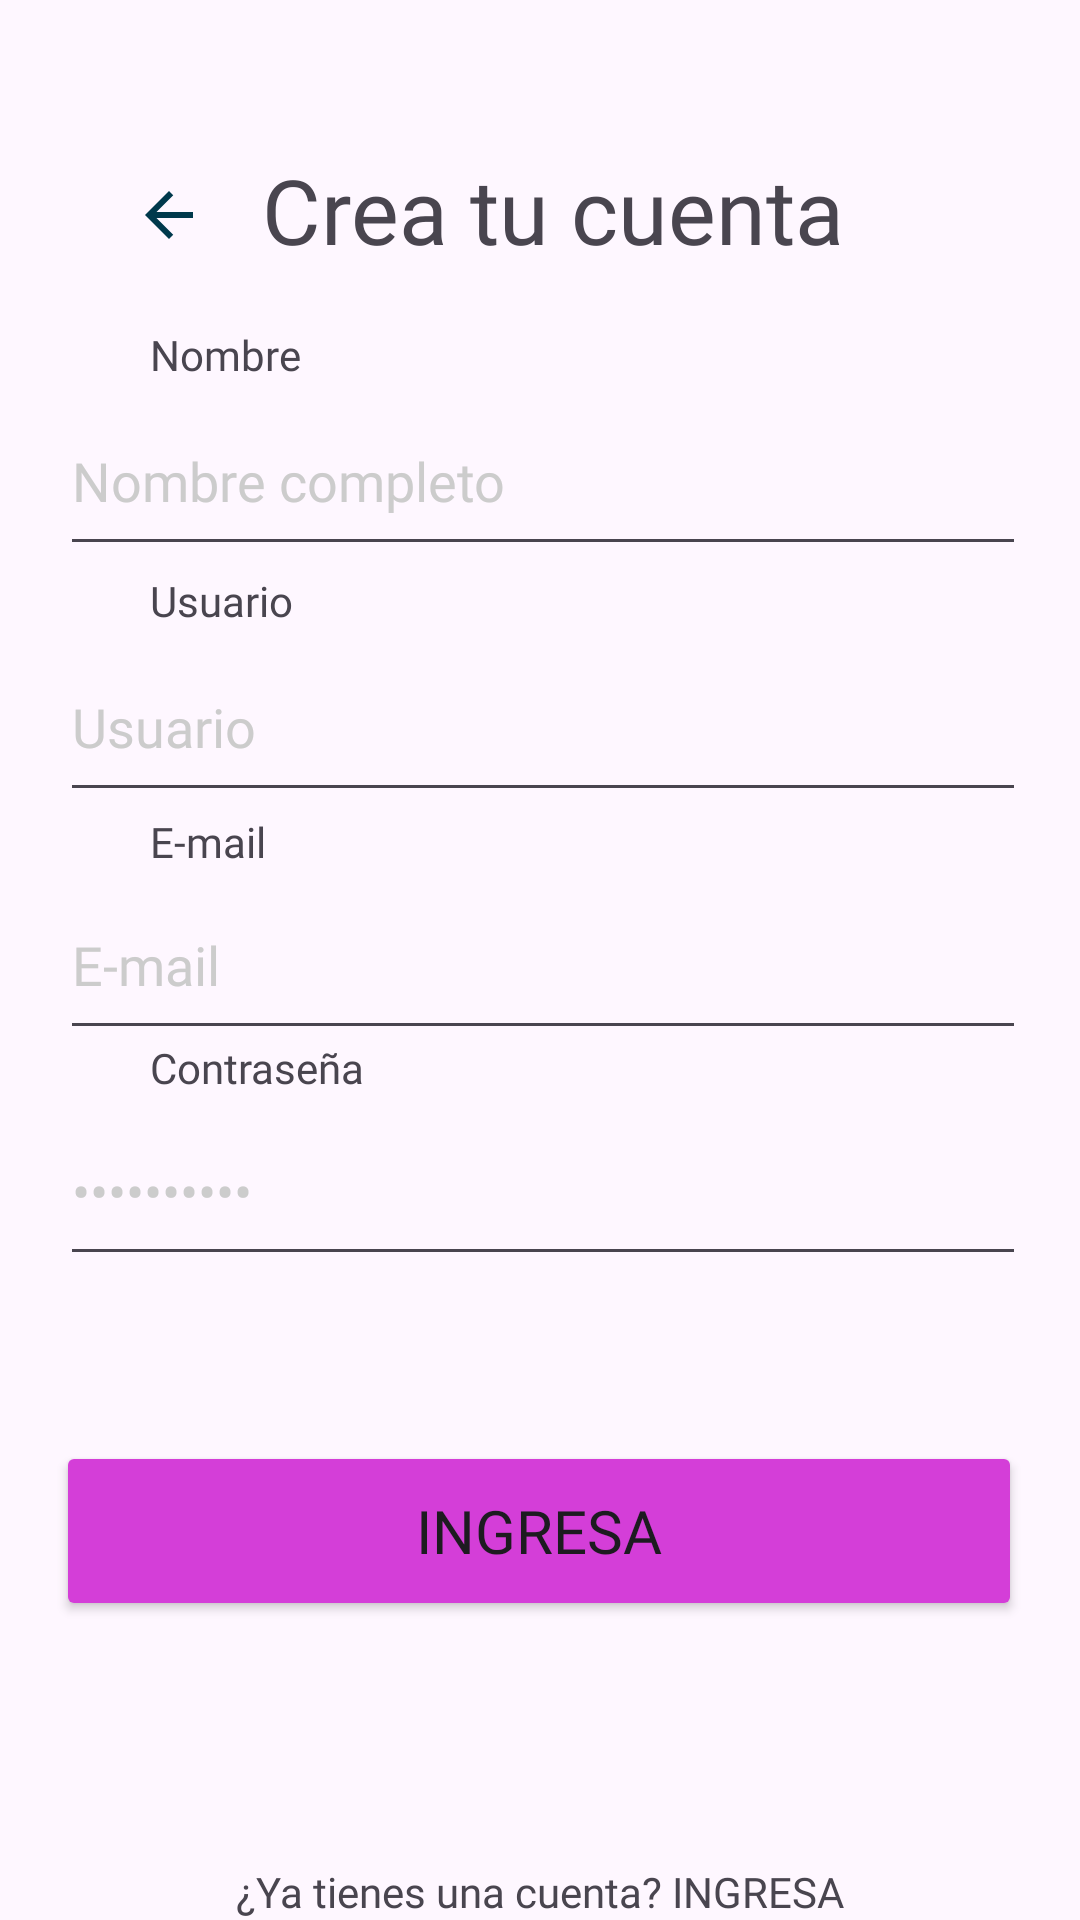

Screen size 1080×1920. Icon name, then its box in pixels as box(x1, y1, x2, y2):
arrow back: box(145, 191, 193, 239)
